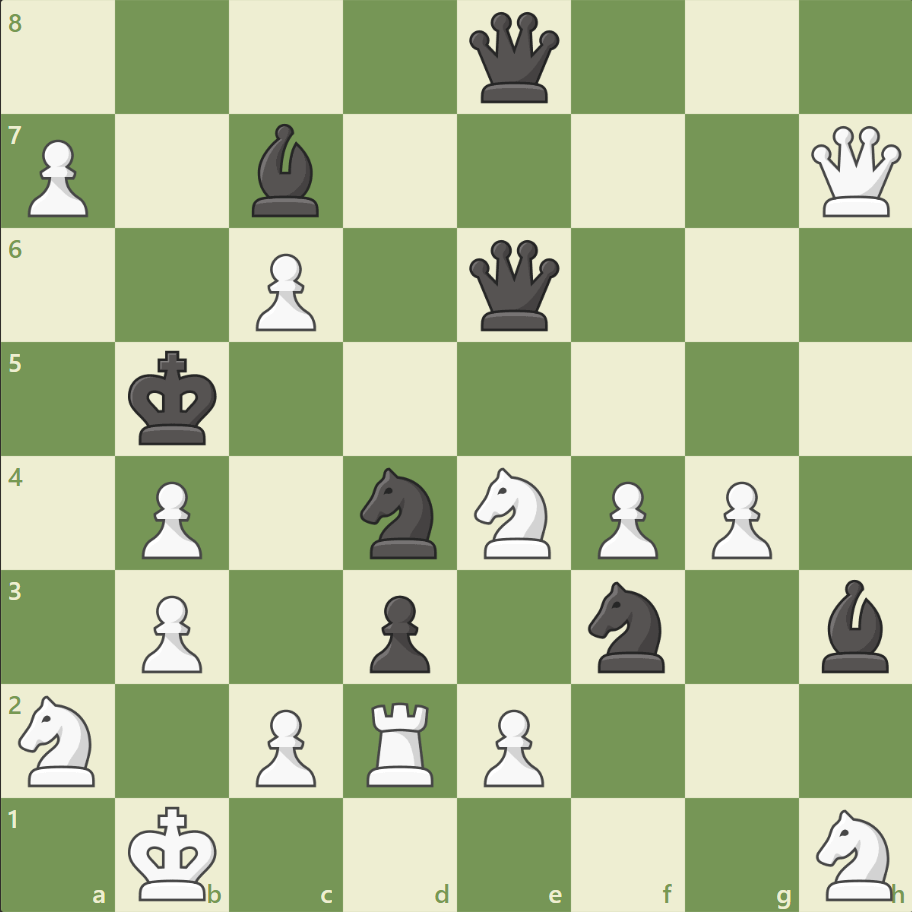K: (124, 798, 224, 906)
N: (465, 461, 562, 564), (11, 688, 108, 791), (806, 802, 903, 904)
P: (20, 132, 95, 223), (247, 246, 322, 337), (133, 473, 208, 564), (701, 473, 776, 564), (133, 586, 208, 677), (247, 700, 322, 791), (474, 700, 549, 791), (588, 473, 662, 564)
Q: (805, 122, 904, 222)
R: (360, 693, 442, 790)
b: (244, 120, 328, 222), (812, 574, 896, 676)
k: (124, 344, 224, 452)
n: (351, 461, 449, 564), (579, 575, 676, 677)
p: (361, 586, 435, 677)
q: (464, 9, 563, 108), (464, 236, 563, 335)
